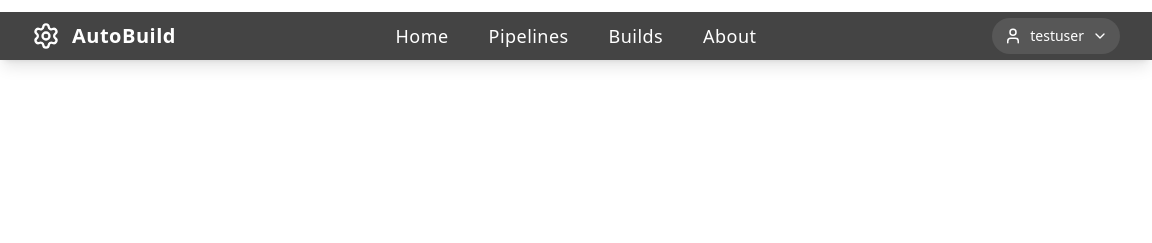
Scenario: NavBar › Profile Dropdown Menu › opens dropdown when profile button is clicked
Expected: the text "testuser" is shown, [1030,26,1084,46]
Click the button "testuser". click: (1056, 36)
box: [992,18,1120,54]
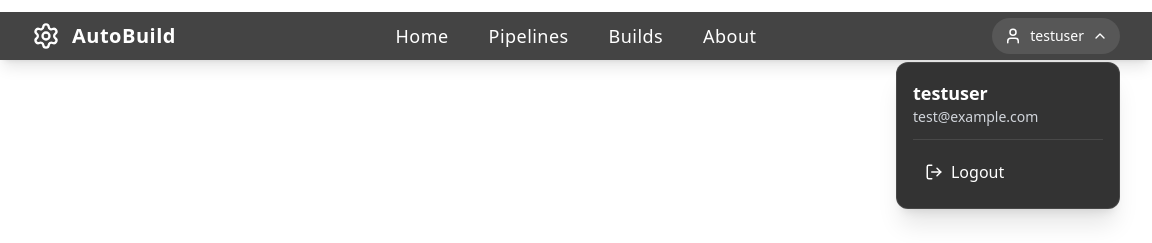
Expected: the text "test@example.com" is shown, [913,107,1038,126]
